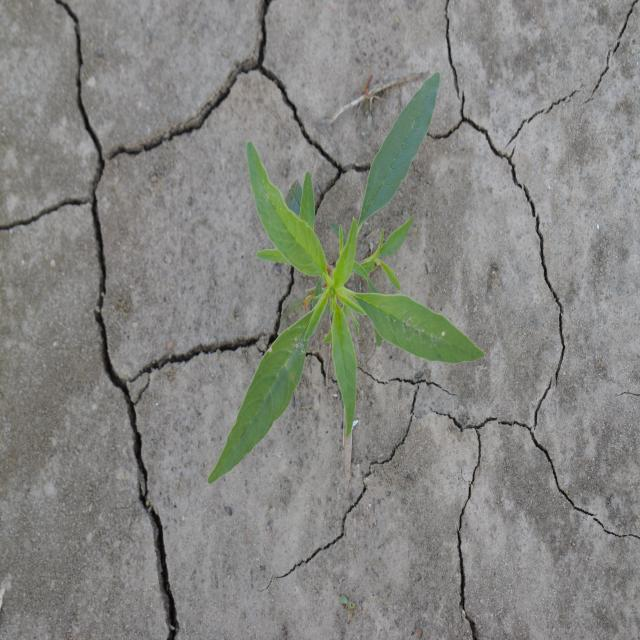Waterhemp: (207, 70, 488, 486)
